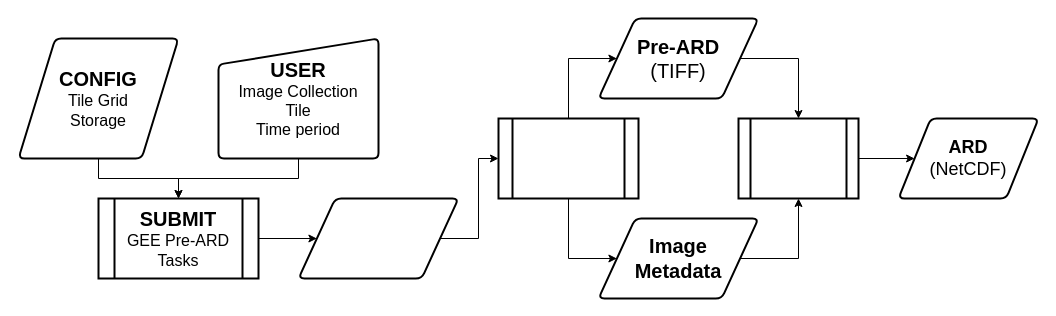
This 1056x316 diagram has some shape labels left out. Here are the shapes that lost their labels. From the top down, the centre of each, then its label:
At (x=568, y=158): "Track & Download".
At (x=798, y=158): "ETL".
At (x=378, y=238): "Task Metadata".
